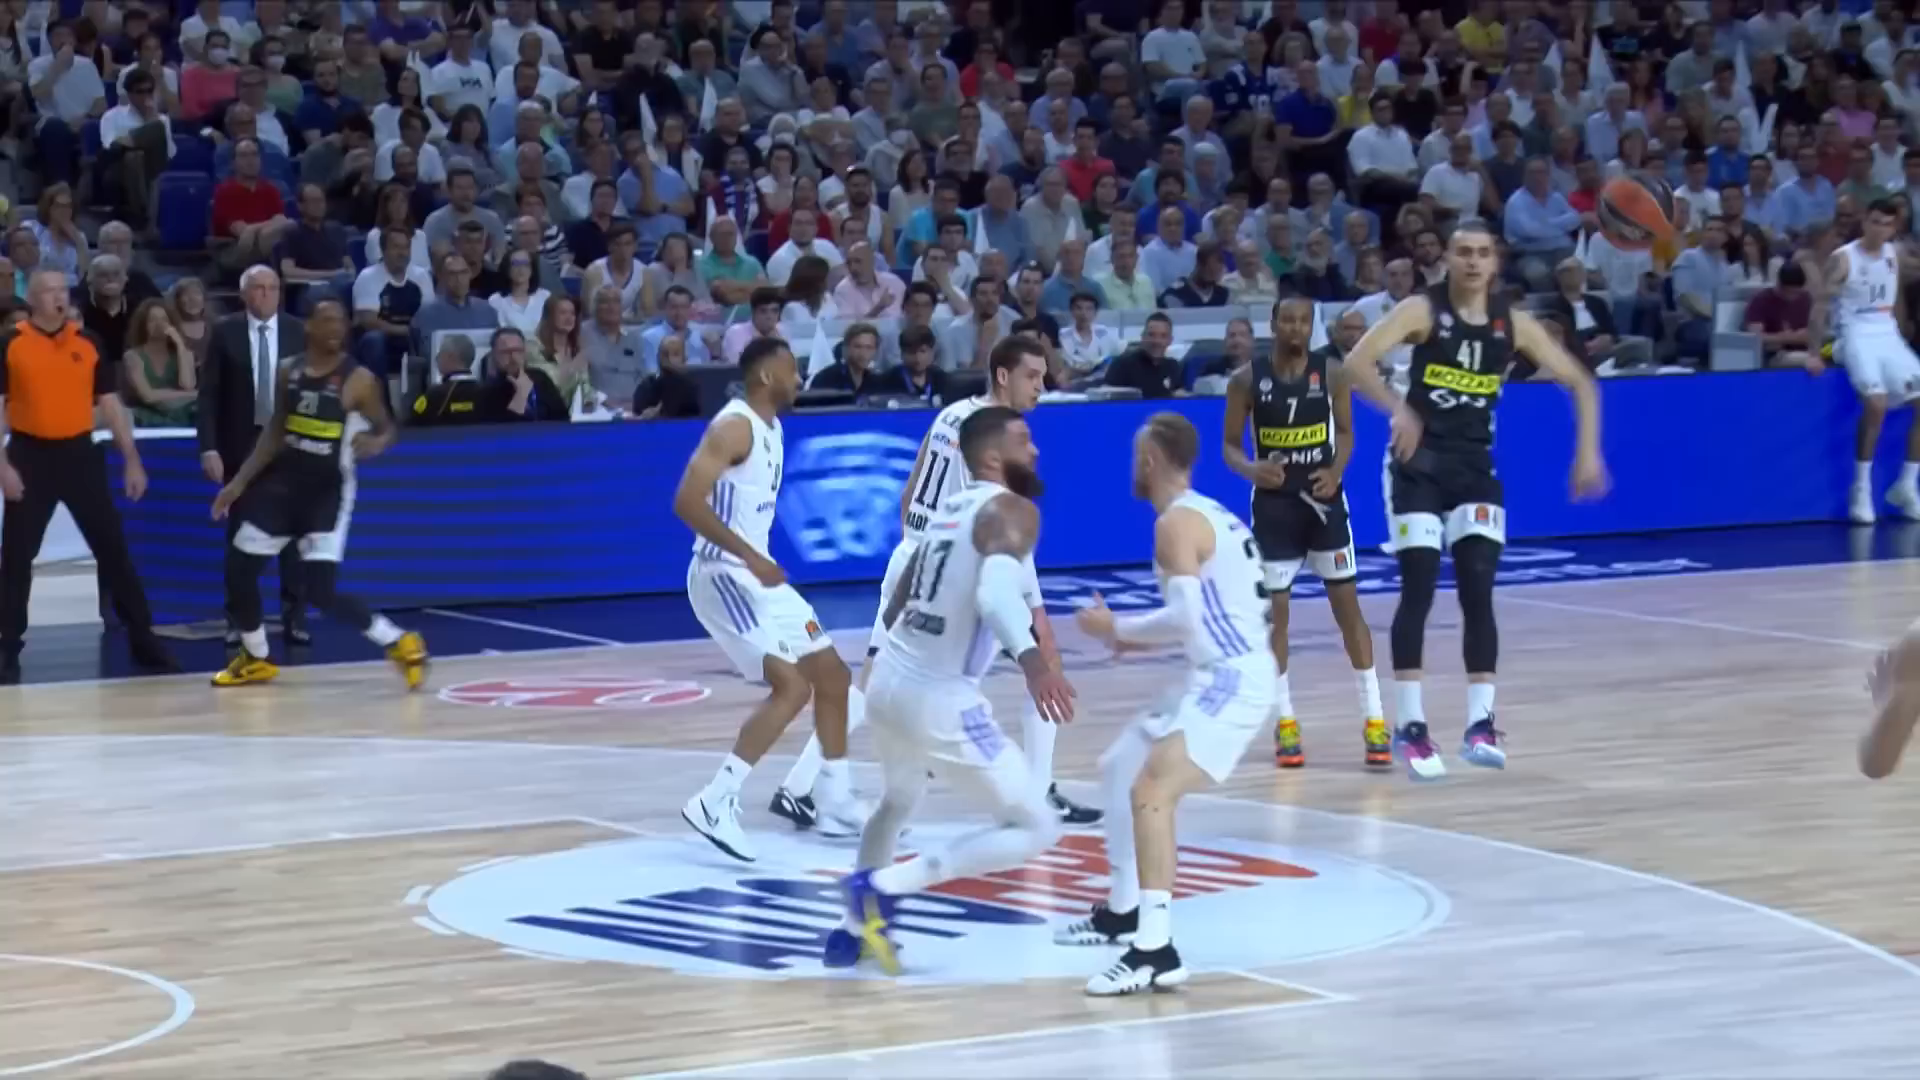ball: (1596, 169, 1677, 251)
